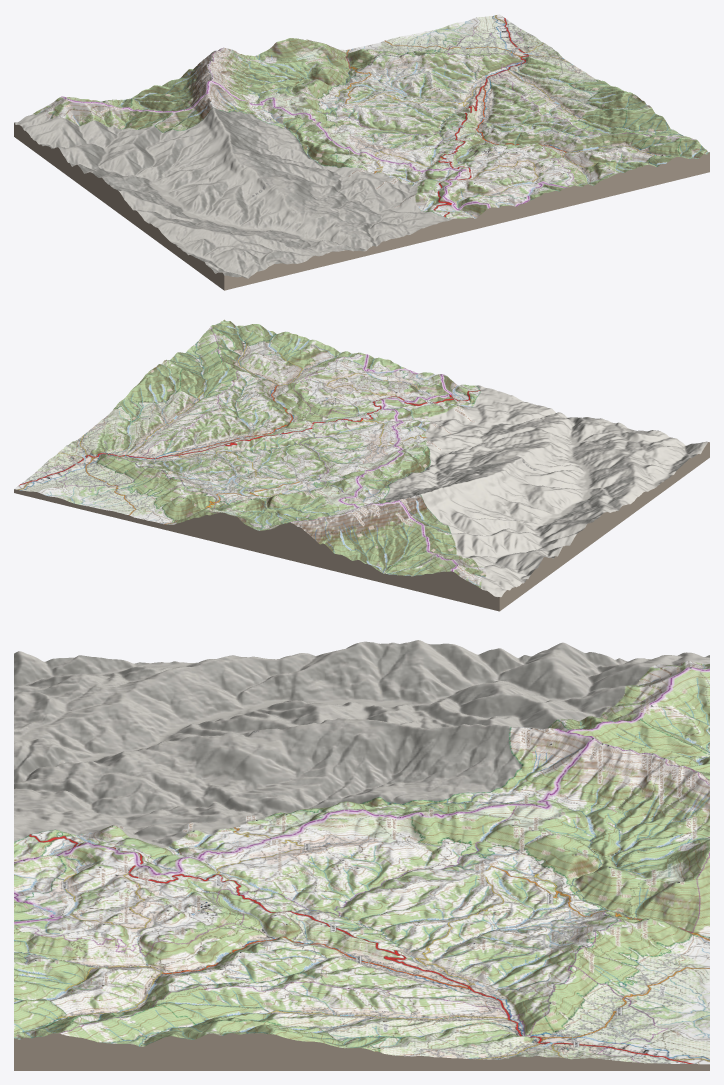
3 views of the same model, one above another, from view 1: azimuth 30°, elevation 25°; view 2: azimuth 150°, elevation 25°; view 3: azimuth 270°, elevation 25° (orthographic). The views are drawn at different scales.
Parts seen in each view (by area): view 1: BV50-F3 Bran; view 2: BV50-F3 Bran; view 3: BV50-F3 Bran.
Boxes of the visible parts, x1=… form: BV50-F3 Bran: x1=14, y1=14, x2=709, y2=290; BV50-F3 Bran: x1=14, y1=319, x2=709, y2=611; BV50-F3 Bran: x1=14, y1=640, x2=709, y2=1070.
Size of the model in its own units: 20001 by 1685 by 15000.
Materials: 6 (1 with a texture image).
